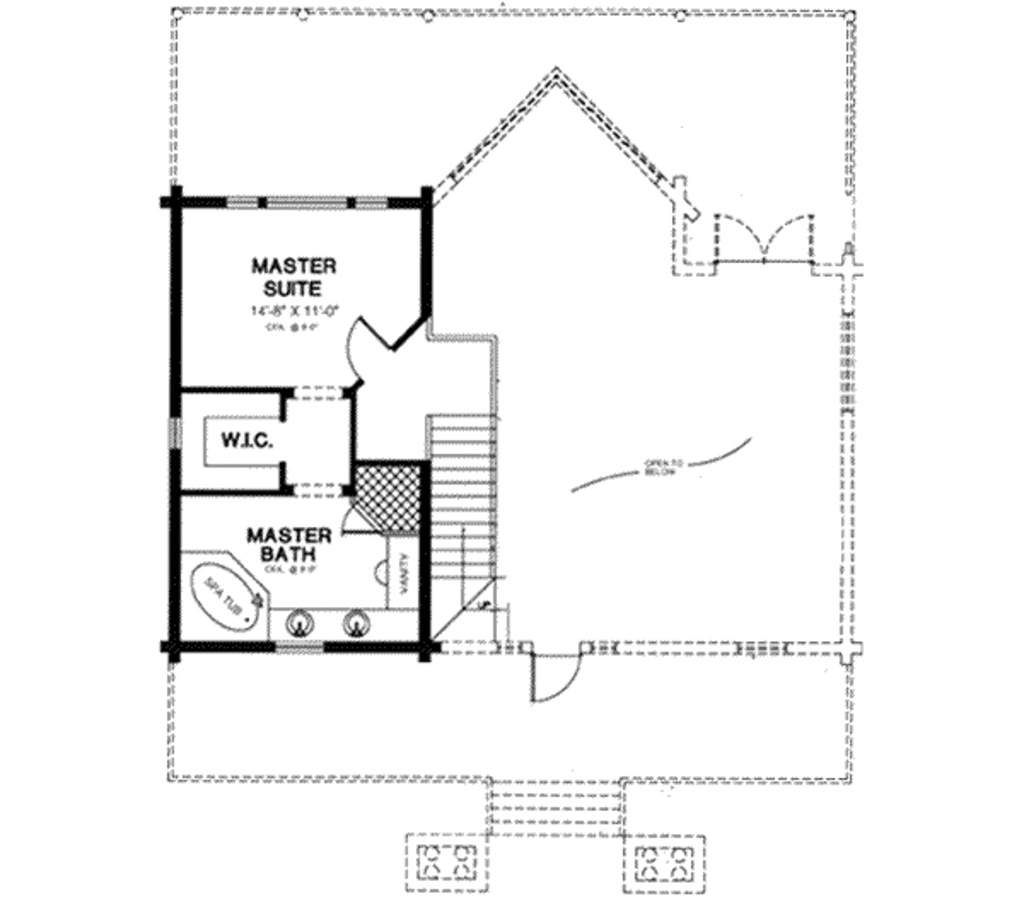door: (706, 205, 815, 261), (321, 313, 399, 385), (530, 649, 584, 709), (338, 505, 386, 534)
small_sink: (340, 608, 378, 644), (284, 613, 322, 639)
stairs: (419, 407, 508, 641)
tub: (189, 552, 270, 638)
window: (229, 194, 384, 211), (273, 638, 336, 657), (167, 422, 189, 452)
